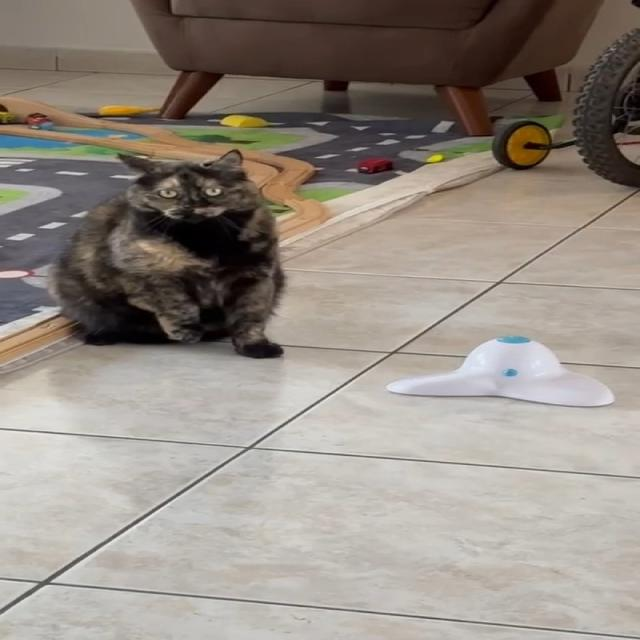authorized: (45, 148, 287, 358)
